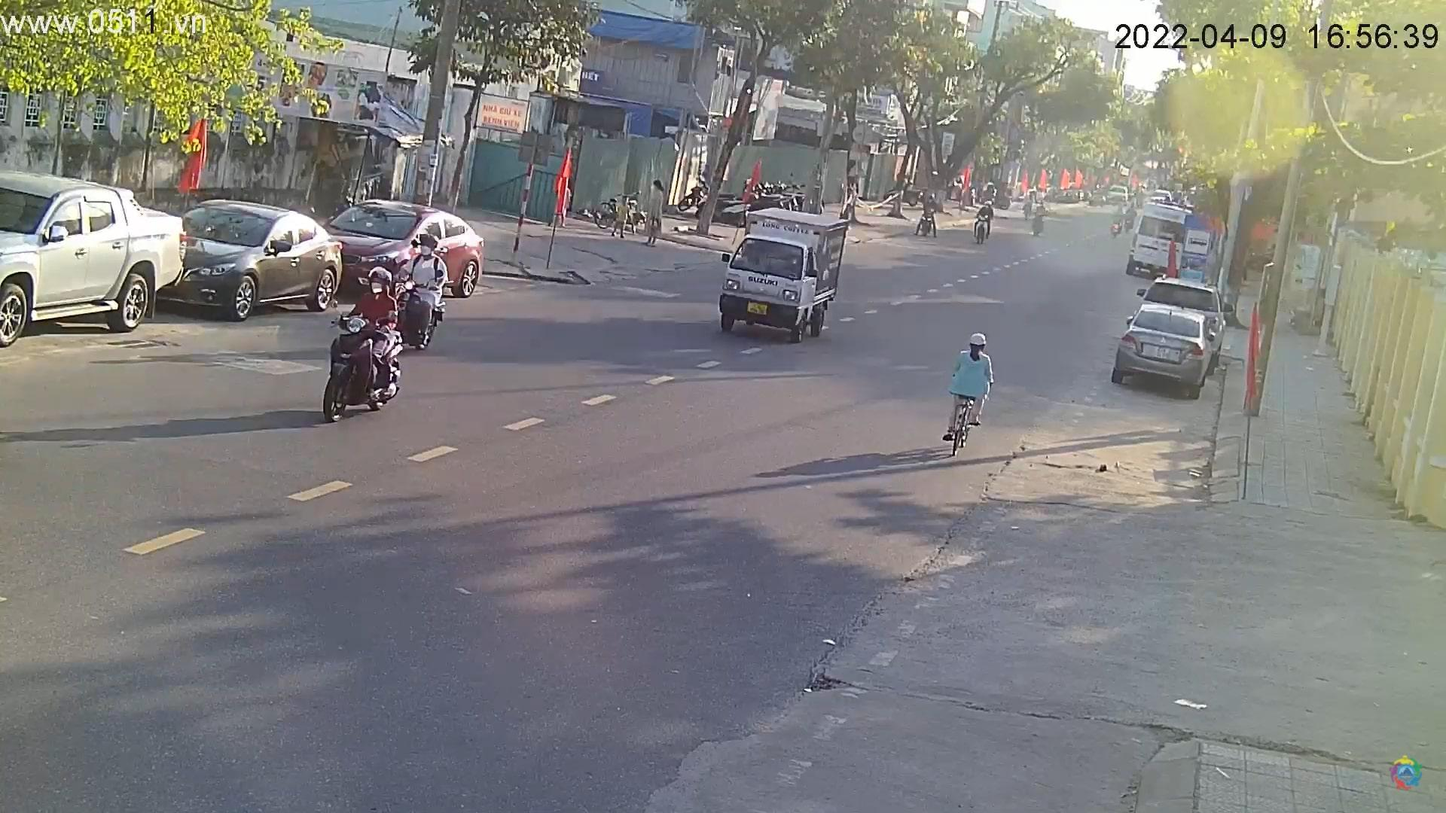car: (2, 170, 187, 352), (163, 202, 353, 322), (323, 200, 485, 293)
motorbike: (319, 270, 416, 422)
truck: (715, 208, 848, 344)
